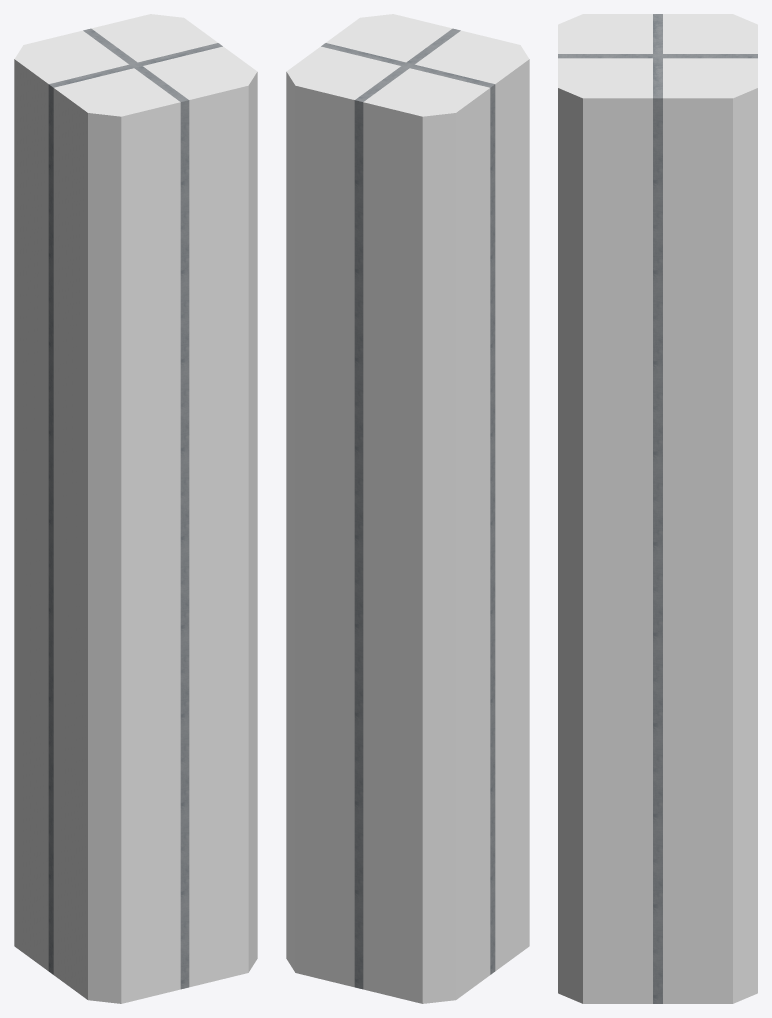
The model's file is Thresher-Room-Pillar.obj.
3 renders of one model, left to right at view 1: azimuth 30°, elevation 25°; view 2: azimuth 150°, elevation 25°; view 3: azimuth 270°, elevation 25°, orthographic. The views are drawn at different scales.
Parts seen in each view (by area): view 1: Thresher-Room-Pillar; view 2: Thresher-Room-Pillar; view 3: Thresher-Room-Pillar.
Part boxes in pixels (x1,y1,x2,y2): Thresher-Room-Pillar: (14,14,257,1003); Thresher-Room-Pillar: (286,14,529,1003); Thresher-Room-Pillar: (558,14,757,1003).
Bounding box in the file's own units: 2 × 10 × 2.
